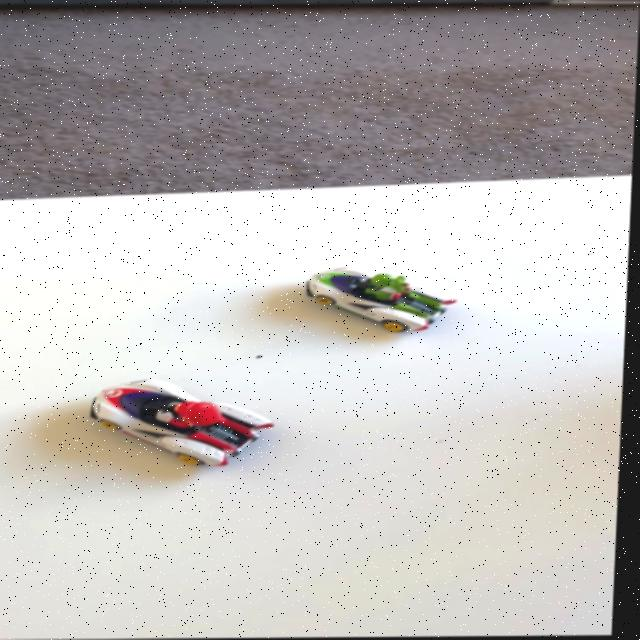mario: (74, 373, 301, 470)
yoshi: (293, 264, 474, 342)
